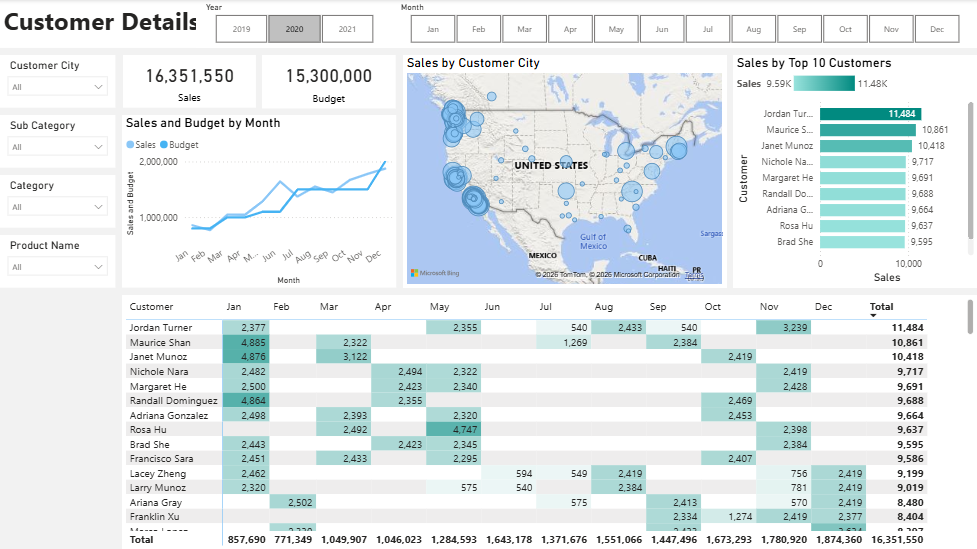

What the dashboard file says about the page in this screenshot:
{"tool":"powerbi","page":{"name":"Customer Details","canvas":[1280,720],"ordinal":1},"visuals":[{"type":"textbox","box":[0,0,1280,64],"z":0},{"type":"slicer","fields":{"Values":["DIM_Calendar.Year"]},"box":[256,0,256,64],"z":1000},{"type":"slicer","fields":{"Values":["DIM_Calendar.MonthShort"]},"box":[512,0,768,64],"z":2000},{"type":"slicer","fields":{"Values":["DIM_Customers.Customer City"]},"box":[0,73,150.5,69.3],"z":3000},{"type":"slicer","fields":{"Values":["DIM_Products.Product Category"]},"box":[0,229.9,150.5,69.3],"z":4000},{"type":"slicer","fields":{"Values":["DIM_Products.Product Name"]},"box":[0,308.4,150.5,69.3],"z":5000},{"type":"slicer","fields":{"Values":["DIM_Products.Sub Category"]},"box":[0,151.4,150.5,69.3],"z":6000},{"type":"lineChart","fields":{"Category":["DIM_Calendar.MonthShort"],"Y":["Analysis Metrics.Sales","Analysis Metrics.Budget"]},"box":[159.8,151.8,358.7,226.4],"z":7000},{"type":"card","fields":{"Values":["Analysis Metrics.Sales"]},"box":[160.7,72.8,174,69.2],"z":8000},{"type":"map","fields":{"Category":["DIM_Customers.Customer City"],"Size":["Analysis Metrics.Sales"]},"box":[527.3,72.8,423.5,304.5],"z":9000},{"type":"card","fields":{"Values":["Analysis Metrics.Budget"]},"box":[343.6,72.8,174.9,70.1],"z":10000},{"type":"pivotTable","fields":{"Columns":["DIM_Calendar.MonthShort"],"Rows":["DIM_Customers.Full Name"],"Values":["Analysis Metrics.Sales"]},"box":[159.8,387.1,1120.4,332.9],"z":11000},{"type":"barChart","title":"Sales by Top 10 Customers","fields":{"Category":["DIM_Customers.Full Name"],"Y":["Analysis Metrics.Sales"]},"box":[959.7,72.8,320.5,304.5],"z":12000}]}

Visuals, with their boxes in screenshot pixels (x1, y1, x2, y2), scaled from the page's 1280x720 canvas onto the 977x549 screenshot:
textbox: 0, 0, 976, 49
slicer - DIM_Calendar.Year: 195, 0, 391, 49
slicer - DIM_Calendar.MonthShort: 391, 0, 976, 49
slicer - DIM_Customers.Customer City: 0, 56, 115, 109
slicer - DIM_Products.Product Category: 0, 175, 115, 228
slicer - DIM_Products.Product Name: 0, 235, 115, 288
slicer - DIM_Products.Sub Category: 0, 115, 115, 168
lineChart - DIM_Calendar.MonthShort x Analysis Metrics.Sales: 122, 116, 396, 288
card - Analysis Metrics.Sales: 123, 56, 255, 108
map - DIM_Customers.Customer City x Analysis Metrics.Sales: 402, 56, 726, 288
card - Analysis Metrics.Budget: 262, 56, 396, 109
pivotTable - DIM_Calendar.MonthShort x DIM_Customers.Full Name: 122, 295, 976, 548
"Sales by Top 10 Customers" barChart: 733, 56, 976, 288
